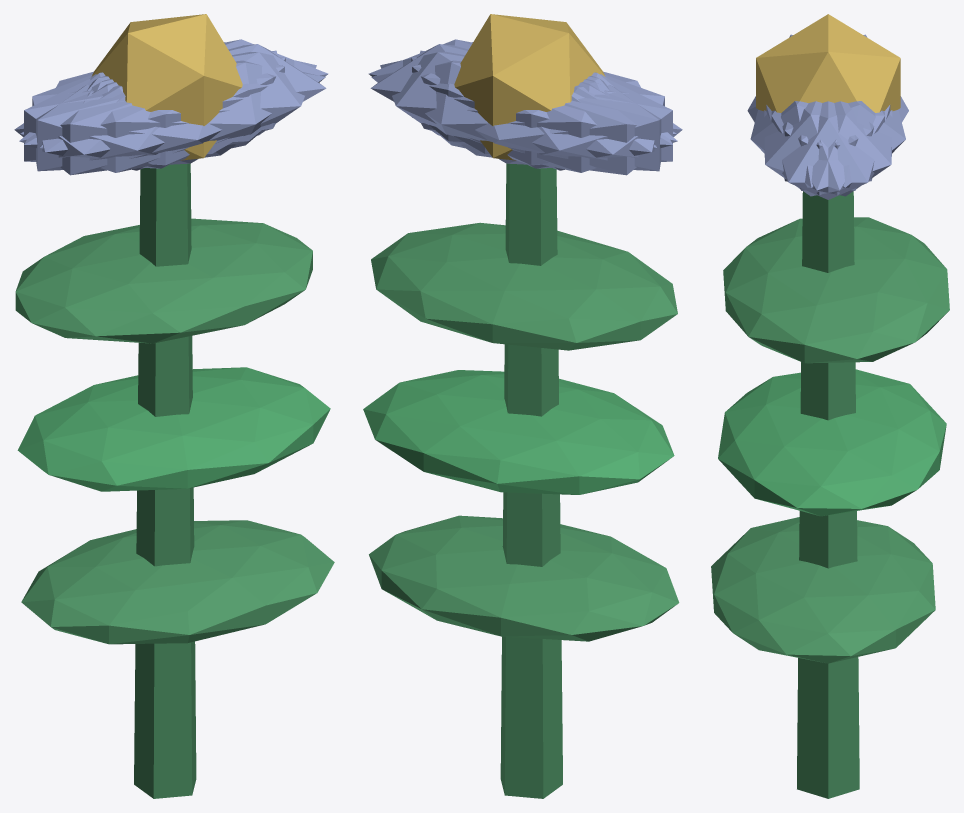
Rendered from morus-alba.glb.
The picture shows the model from 3 angles, left to right: view 1: azimuth 30°, elevation 25°; view 2: azimuth 150°, elevation 25°; view 3: azimuth 270°, elevation 25°; orthographic projection.
Visible parts, largest first — view 1: leaf0, leaf1, leaf2, stem, center, petal1, petal6, petal2, petal5, petal7, petal0, petal4 (+2 smaller); view 2: leaf2, leaf1, leaf0, stem, center, petal8, petal3, petal7, petal4, petal2, petal0, petal5 (+2 smaller); view 3: leaf1, leaf2, leaf0, stem, center, petal0, petal4, petal5, petal1, petal8.
Part boxes in pixels (bbox=[...]): leaf0: bbox=[21, 520, 334, 644]; leaf1: bbox=[17, 367, 330, 491]; leaf2: bbox=[15, 218, 312, 343]; stem: bbox=[134, 163, 196, 798]; center: bbox=[91, 14, 242, 160]; petal1: bbox=[19, 60, 325, 172]; petal6: bbox=[14, 74, 235, 175]; petal2: bbox=[36, 50, 276, 171]; petal5: bbox=[40, 52, 316, 165]; petal7: bbox=[24, 57, 285, 168]; petal0: bbox=[91, 44, 326, 154]; petal4: bbox=[20, 39, 328, 145]; leaf2: bbox=[371, 222, 677, 350]; leaf1: bbox=[363, 370, 674, 494]; leaf0: bbox=[369, 515, 679, 641]; stem: bbox=[500, 163, 562, 798]; center: bbox=[454, 14, 605, 160]; petal8: bbox=[371, 60, 677, 172]; petal3: bbox=[461, 74, 682, 175]; petal7: bbox=[420, 50, 661, 171]; petal4: bbox=[380, 51, 656, 165]; petal2: bbox=[411, 57, 672, 168]; petal0: bbox=[370, 44, 605, 154]; petal5: bbox=[368, 39, 676, 145]; leaf1: bbox=[718, 369, 946, 516]; leaf2: bbox=[723, 217, 949, 363]; leaf0: bbox=[711, 517, 935, 663]; stem: bbox=[797, 191, 859, 798]; center: bbox=[756, 14, 900, 112]; petal0: bbox=[766, 101, 890, 199]; petal4: bbox=[771, 101, 892, 196]; petal5: bbox=[764, 101, 884, 196]; petal1: bbox=[750, 101, 873, 187]; petal8: bbox=[782, 101, 905, 187].
Bounding box in the file's own units: 0.1452 × 0.3509 × 0.101.
